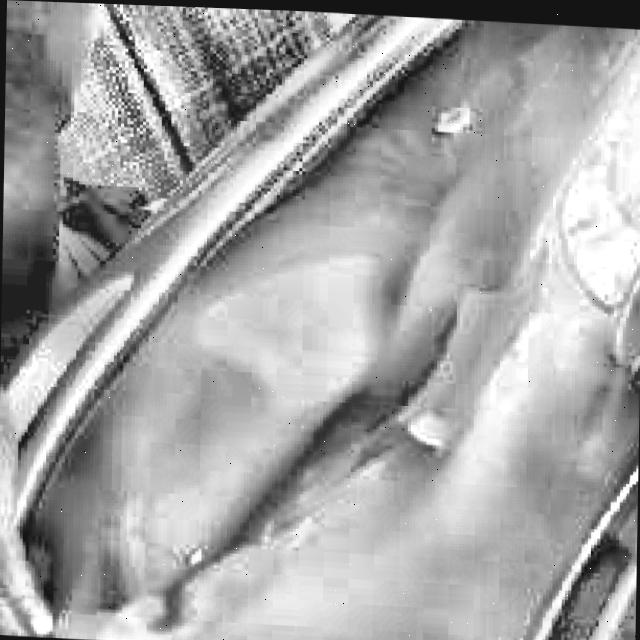bumper_dent: (190, 253, 404, 588)
